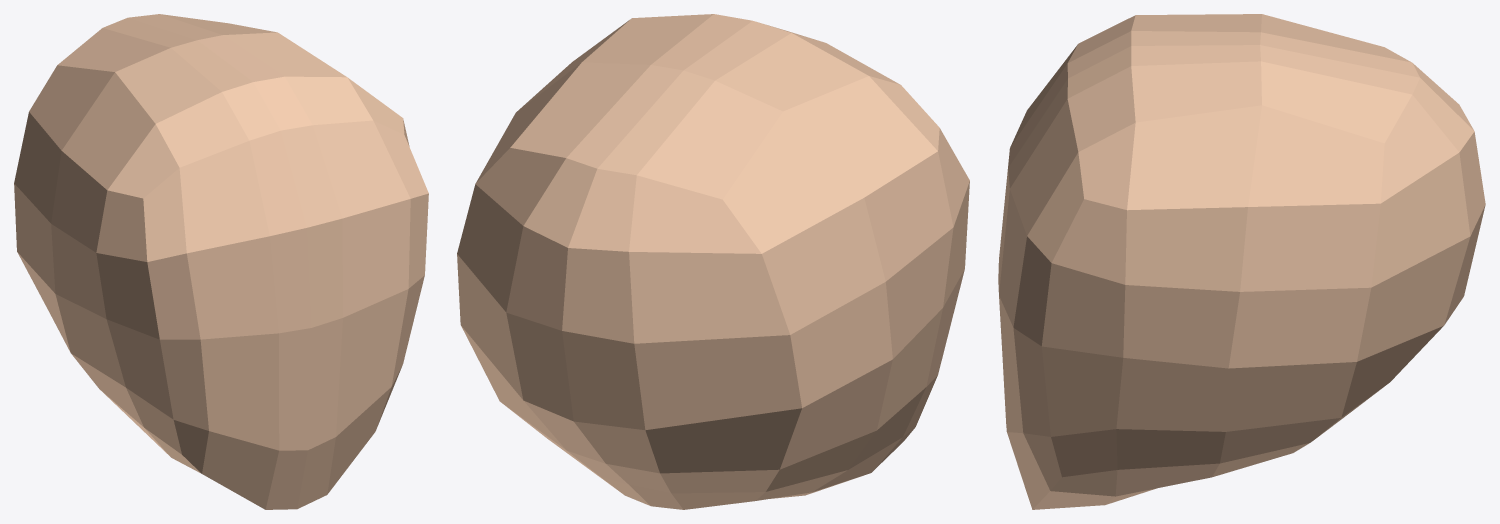
Rendered from Cabeza_Larga.fbx.
3 views of the same model, side by side, from view 1: azimuth 30°, elevation 25°; view 2: azimuth 150°, elevation 25°; view 3: azimuth 270°, elevation 25° (orthographic). The views are drawn at different scales.
Parts seen in each view (by area): view 1: Cabeza_Larga1; view 2: Cabeza_Larga1; view 3: Cabeza_Larga1.
Boxes of the visible parts, x1,y1,x2,y2 form: Cabeza_Larga1: [14, 14, 428, 509]; Cabeza_Larga1: [457, 14, 969, 509]; Cabeza_Larga1: [998, 14, 1485, 509].
Bounding box in the file's own units: 2.61 × 3.09 × 3.
